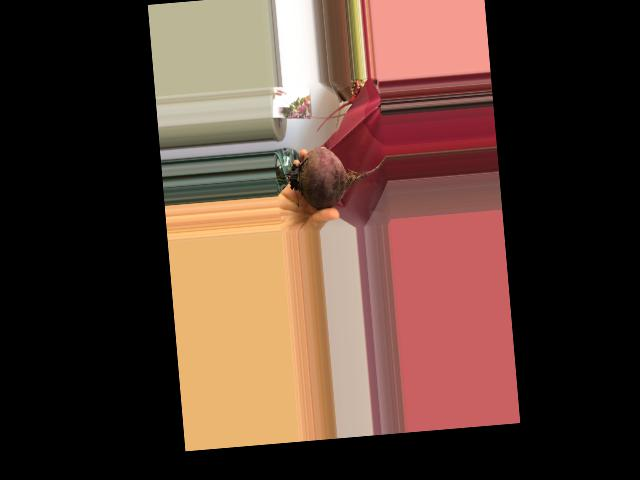beet: (273, 141, 389, 212)
